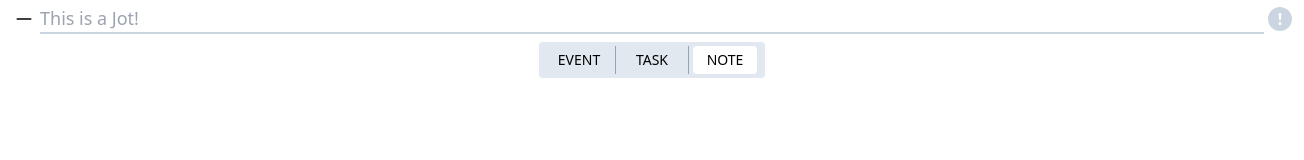
Scenario: Testing JotForm Component › changes the icon when the user changes the jot type
This screenshot has width=1304, height=160.
Click the radio button labelled "TASK". click: (652, 60)
box: [615,46,688,74]
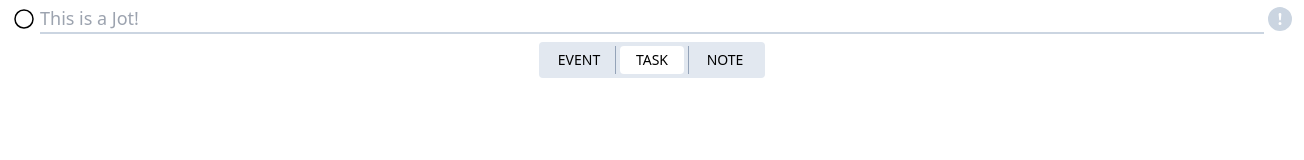
Result: the icon with test id "circle" is shown at [12,7,36,31]
Click the radio button labelled "EVENT". click: (579, 60)
box: [558,50,600,69]
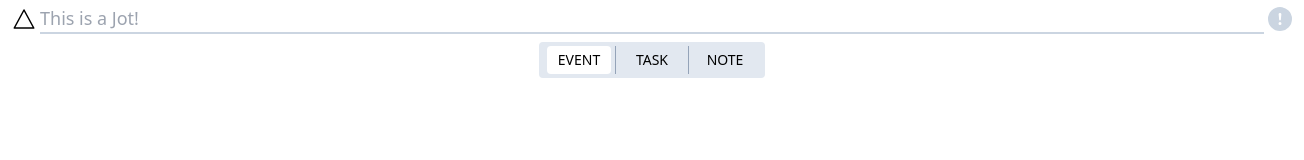
Result: the icon with test id "triangle" is shown at [12,7,36,31]
Click the radio button labelled "NOTE". click: (724, 60)
box: [688,46,761,74]
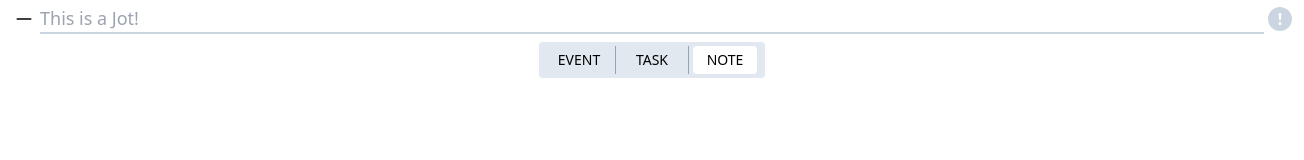
Result: the icon with test id "dash" is shown at [12,7,36,31]
